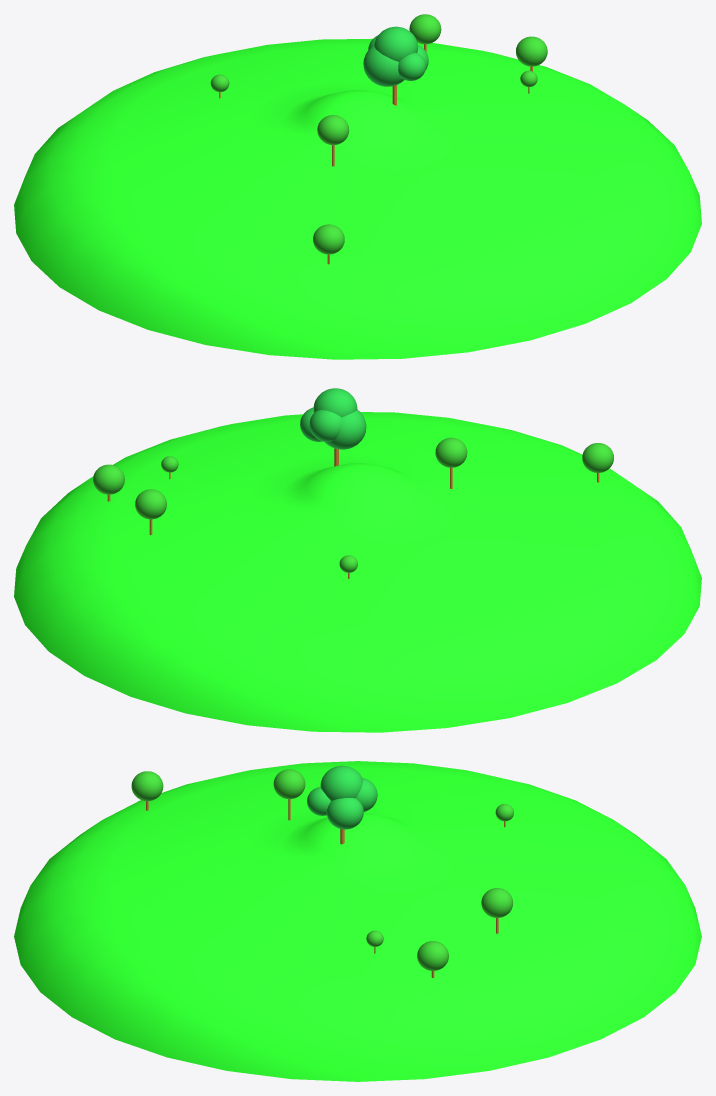
Rendered from MeshGround2.gltf.
The picture shows the model from 3 angles, top to bottom: view 1: azimuth 30°, elevation 25°; view 2: azimuth 150°, elevation 25°; view 3: azimuth 270°, elevation 25°; orthographic projection.
Visible parts, largest first — view 1: wood, tree.003, tree.006, tree.004, tree, tree.002; view 2: wood, tree.003, tree, tree.006, tree.002, tree.004; view 3: wood, tree.003, tree, tree.006, tree.004, tree.002.
Part boxes in pixels (x1,y1,x2,y2): wood: (14, 38, 701, 359); tree.003: (363, 26, 428, 86); tree.006: (313, 224, 344, 254); tree.004: (516, 36, 547, 66); tree: (317, 115, 349, 144); tree.002: (409, 14, 441, 44); wood: (14, 412, 701, 732); tree.003: (300, 388, 366, 449); tree: (435, 437, 467, 467); tree.006: (582, 443, 613, 472); tree.002: (135, 489, 166, 519); tree.004: (93, 464, 124, 494); wood: (14, 761, 701, 1081); tree.003: (307, 765, 377, 829); tree: (273, 769, 305, 799); tree.006: (131, 771, 163, 801); tree.004: (417, 941, 448, 970); tree.002: (481, 888, 512, 917).
Bounding box in the file's own units: 7.4 × 2.18 × 7.4.
